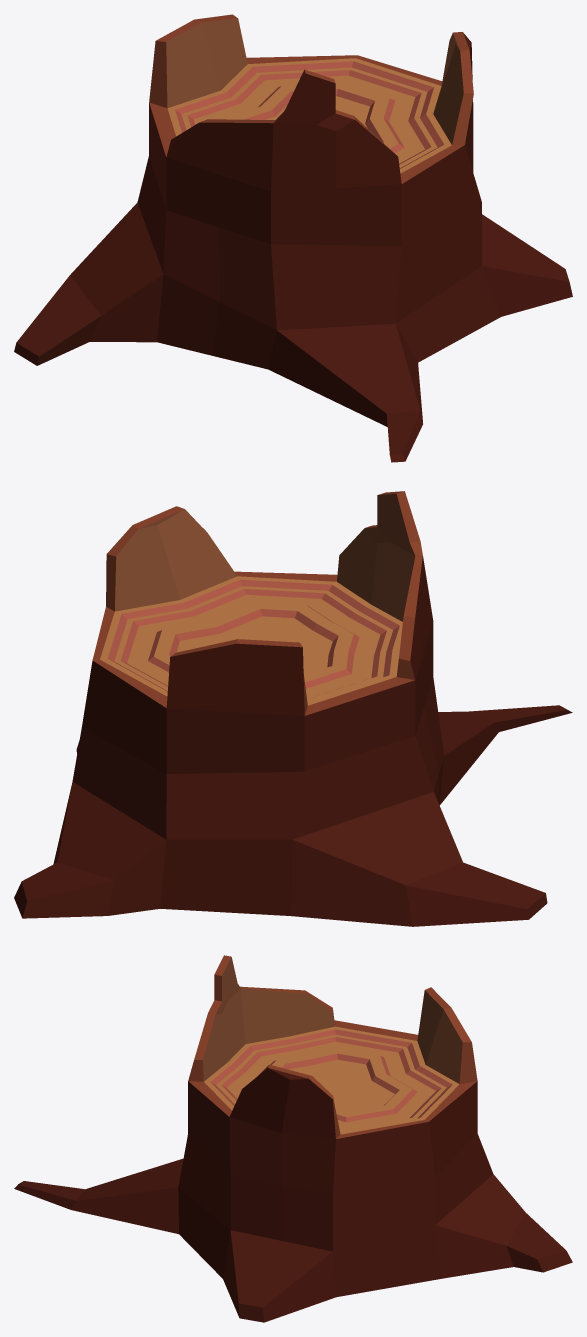
The model's file is stump.fbx.
3 views of the same model, one above another, from view 1: azimuth 30°, elevation 25°; view 2: azimuth 150°, elevation 25°; view 3: azimuth 270°, elevation 25° (orthographic). The views are drawn at different scales.
Visible parts, largest first — view 1: Cylinder.003; view 2: Cylinder.003; view 3: Cylinder.003.
Boxes of the visible parts, x1,y1,x2,y2 form: Cylinder.003: (14,14,572,462); Cylinder.003: (14,491,572,926); Cylinder.003: (14,955,572,1322).
Bounding box in the file's own units: 3.29 × 1.9 × 3.86.
